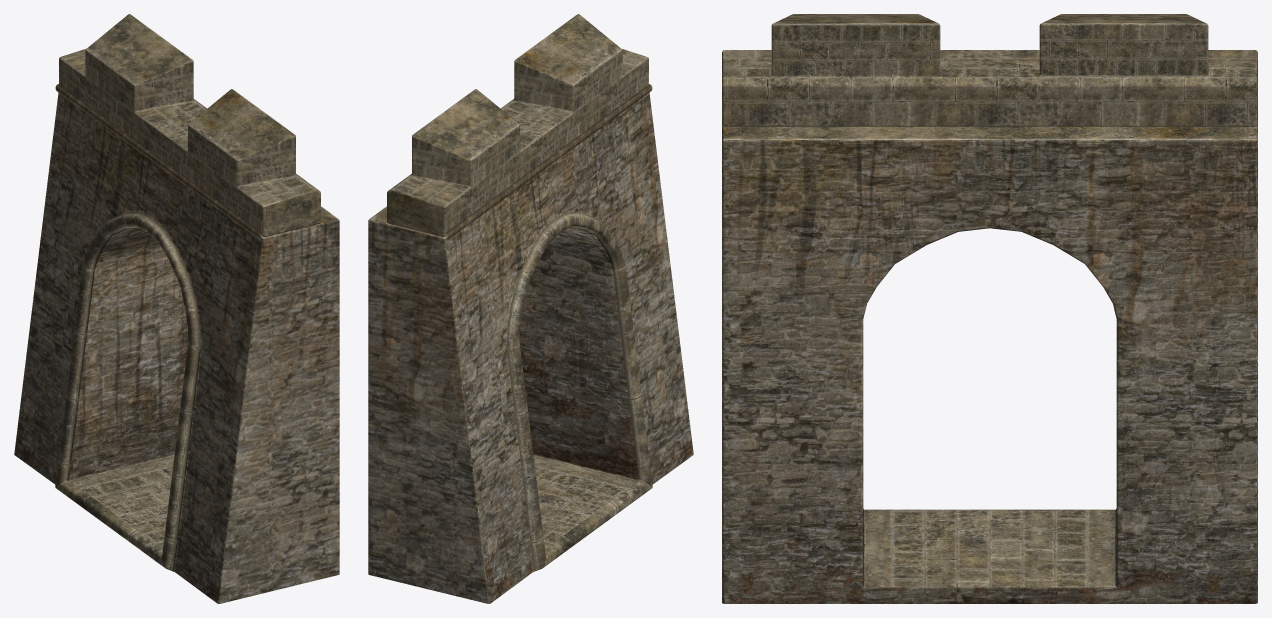
File: modular_fort_01_wall_thin_gate_01.gltf
3 views of the same model, side by side, from view 1: azimuth 30°, elevation 25°; view 2: azimuth 150°, elevation 25°; view 3: azimuth 270°, elevation 25° (orthographic). The views are drawn at different scales.
Visible parts, largest first — view 1: modular_fort_01_wall_thin_gate_01__x; view 2: modular_fort_01_wall_thin_gate_01__x; view 3: modular_fort_01_wall_thin_gate_01__x.
Part boxes in pixels (left/top/right/bottom): modular_fort_01_wall_thin_gate_01__x: left=14, top=14, right=339, bottom=603; modular_fort_01_wall_thin_gate_01__x: left=368, top=14, right=693, bottom=603; modular_fort_01_wall_thin_gate_01__x: left=722, top=14, right=1257, bottom=603.
Size of the model in its own units: 2.67 by 8.62 by 7.41.
Materials: 2 (2 with a texture image).
